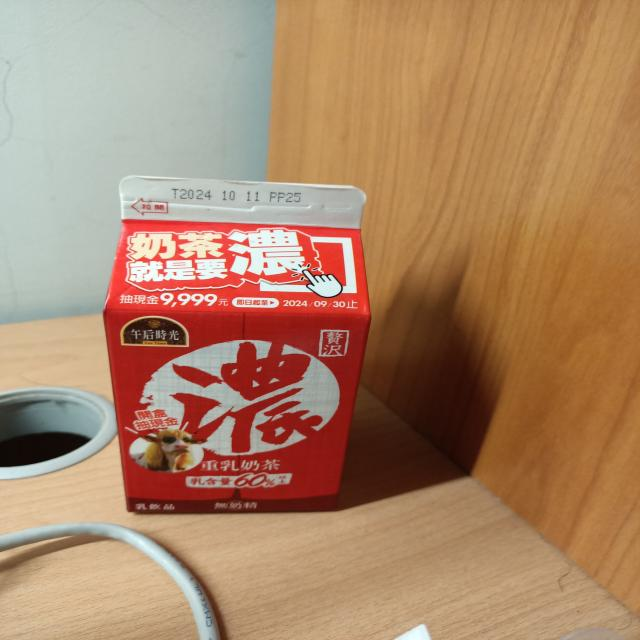Known_MilkTea: (96, 169, 381, 518)
